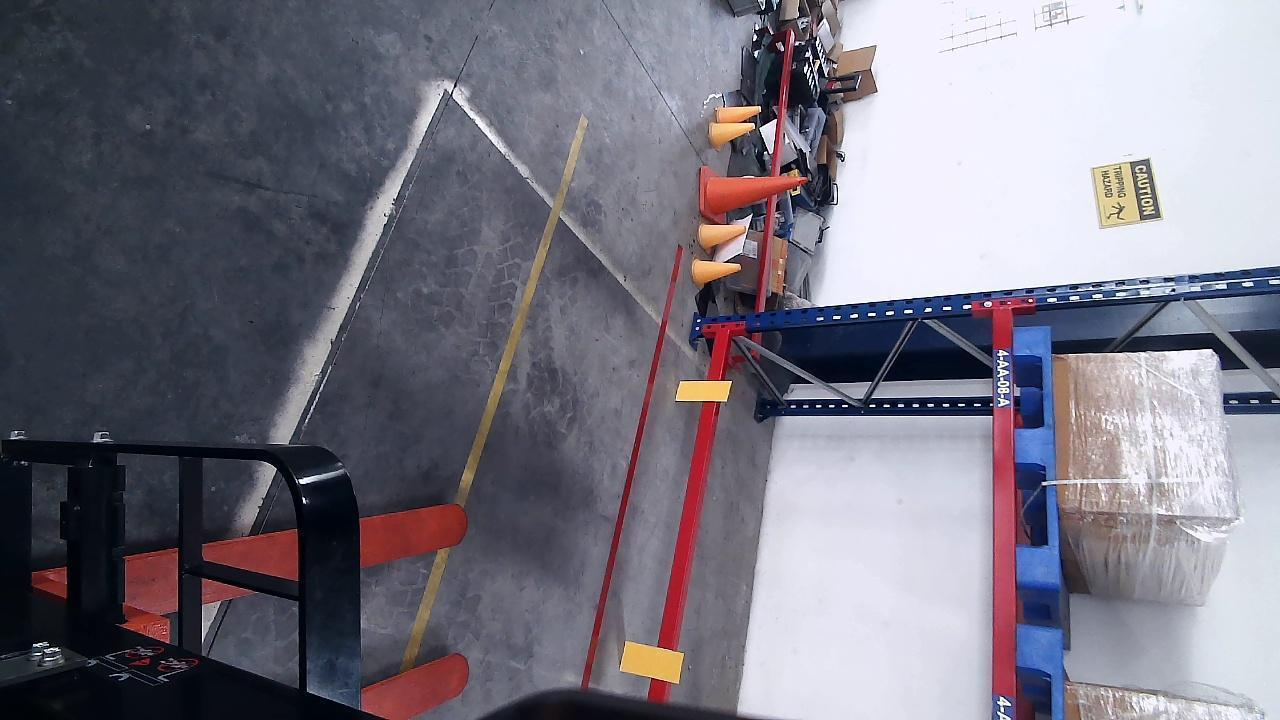red_line: (581, 243, 686, 689)
yellow_line: (401, 112, 592, 668)
